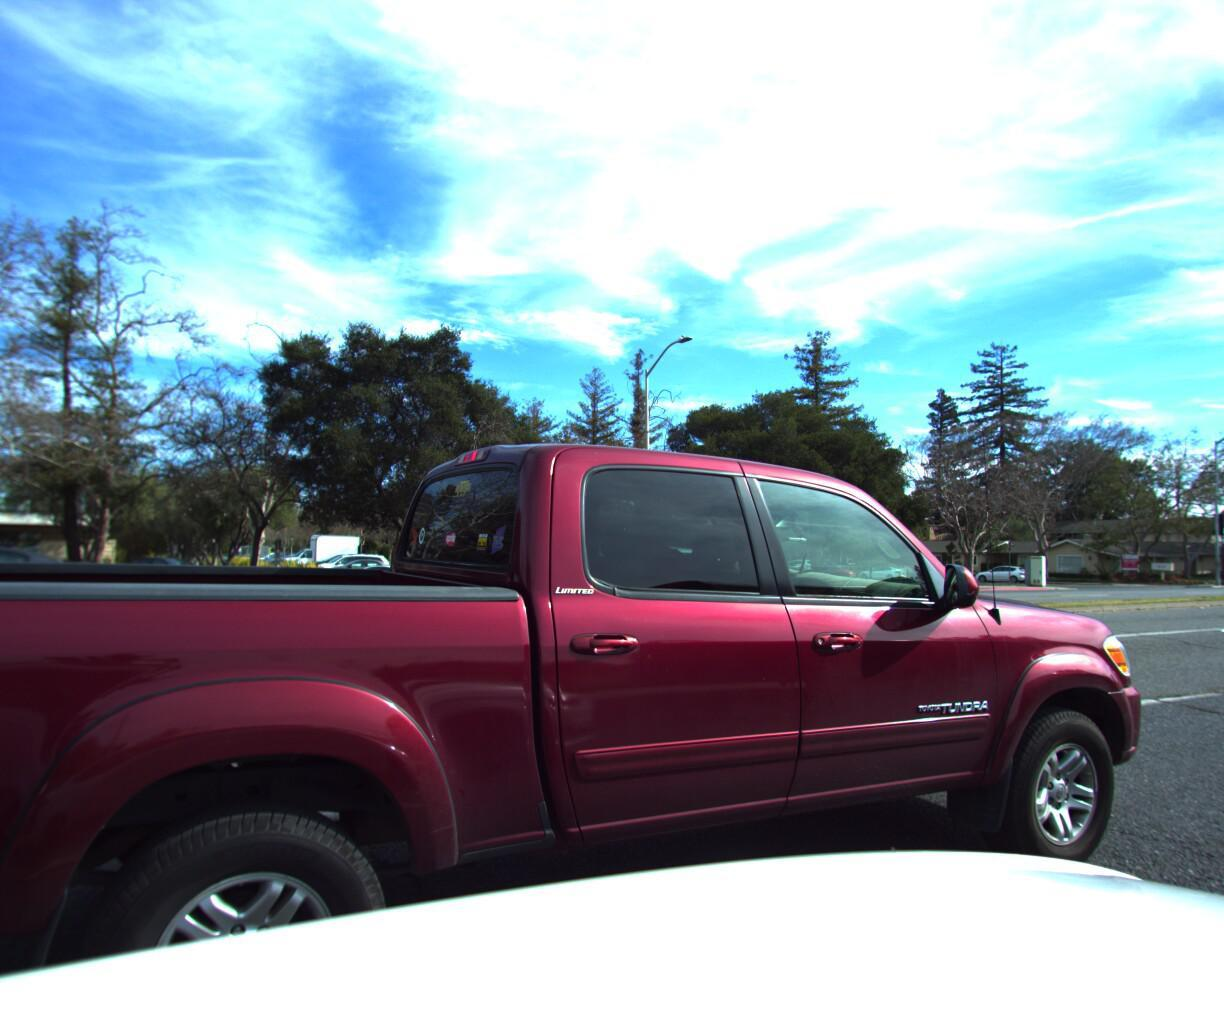car: (0, 335, 1198, 1024), (0, 544, 98, 619), (969, 558, 1031, 579), (910, 558, 967, 578), (855, 557, 908, 576)
